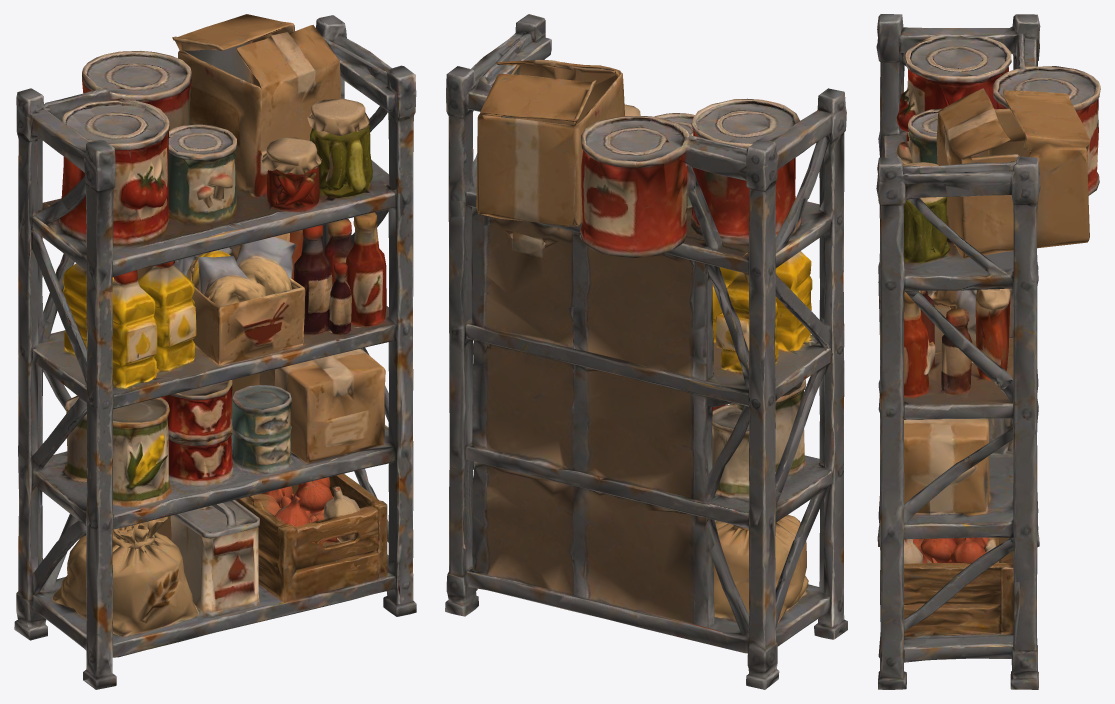
File: d_storage_rack.glb
The picture shows the model from 3 angles, left to right: view 1: azimuth 30°, elevation 25°; view 2: azimuth 150°, elevation 25°; view 3: azimuth 270°, elevation 25°; orthographic projection. The views are drawn at different scales.
Size of the model in its own units: 1.15 by 1.9 by 0.713.
Materials: 1 (1 with a texture image).
